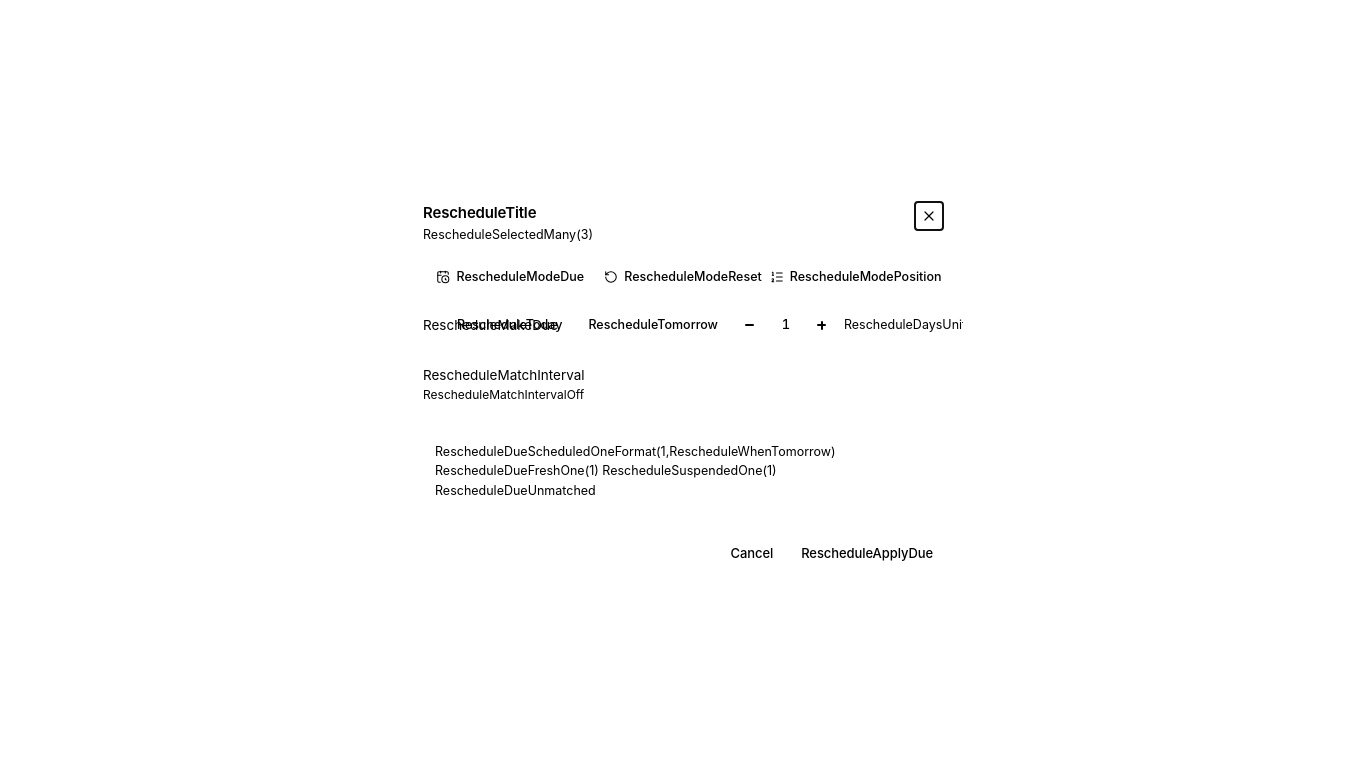
Scenario: RescheduleDialog › rewrites the sentence and the confirm label as the controls change
Click the button "RescheduleToday".
click(510, 325)  # box [447,309,572,341]
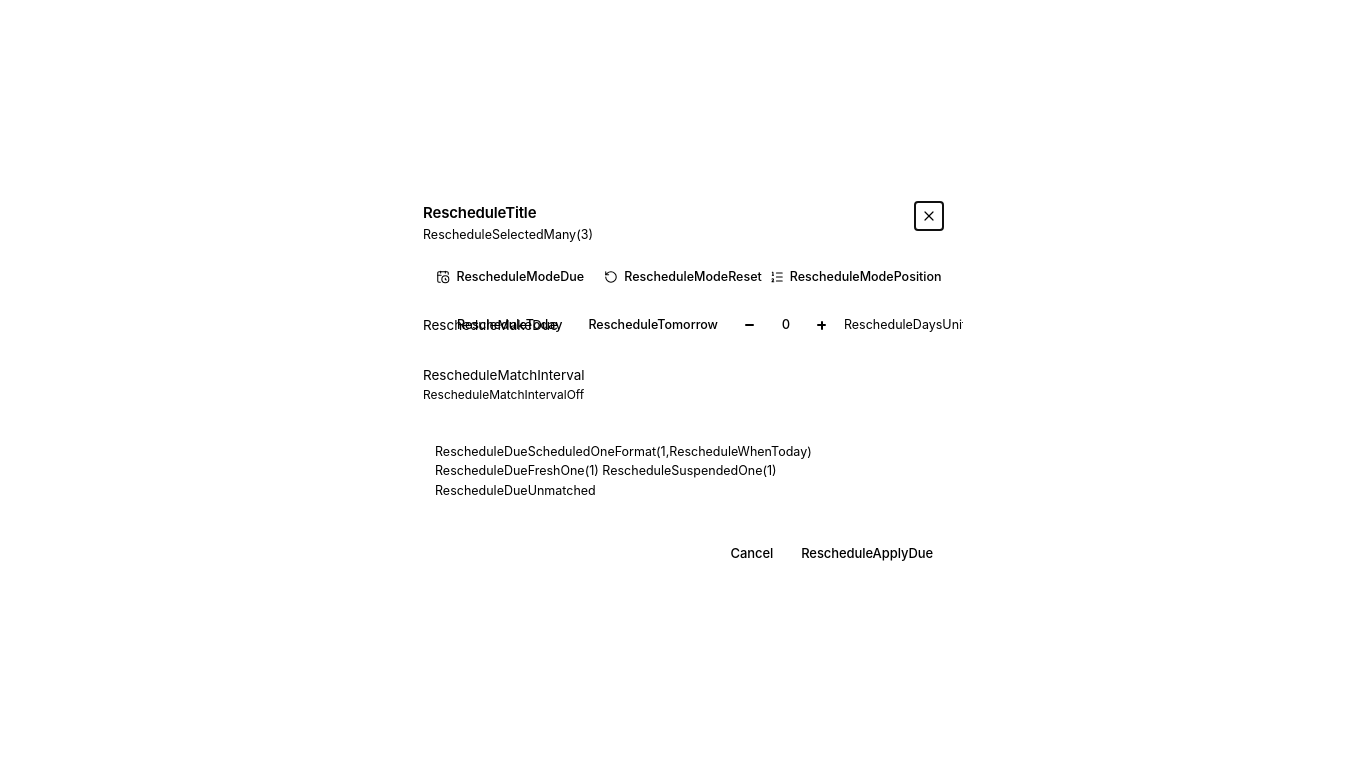
Result: the text "RescheduleDueScheduledOneFormat(1,RescheduleWhenToday)" is shown at [435,444,812,498]
Click the radio button labelled "RescheduleModeReset".
click(683, 277)  # box [598,263,768,291]
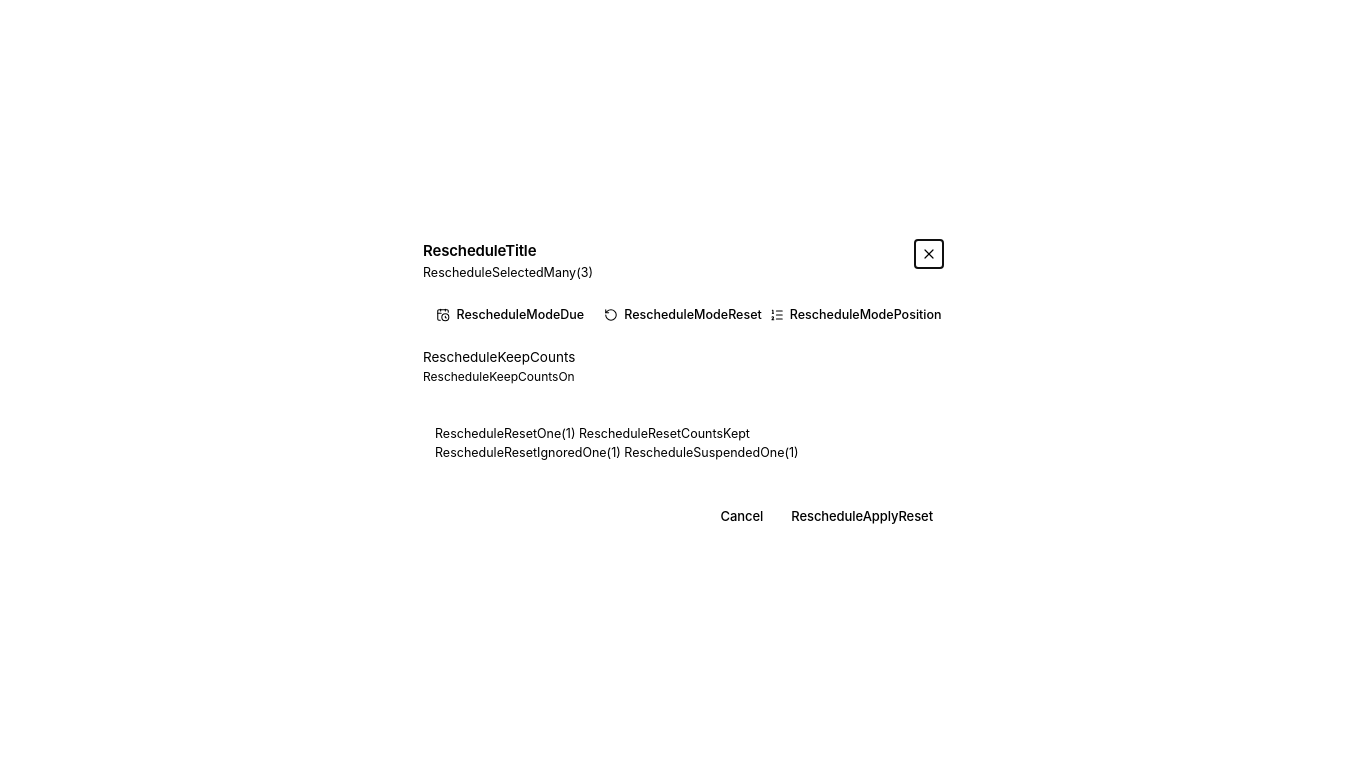
Expected: the button "RescheduleApplyReset" is shown, [781,500,943,532]
Result: the text "RescheduleResetOne(1) RescheduleResetCountsKept RescheduleResetIgnoredOne(1) RescheduleSuspendedOne(1)" is shown at [435,426,799,460]
Click the radio button labelled "RescheduleModePosition".
click(856, 315)  # box [770,301,941,329]
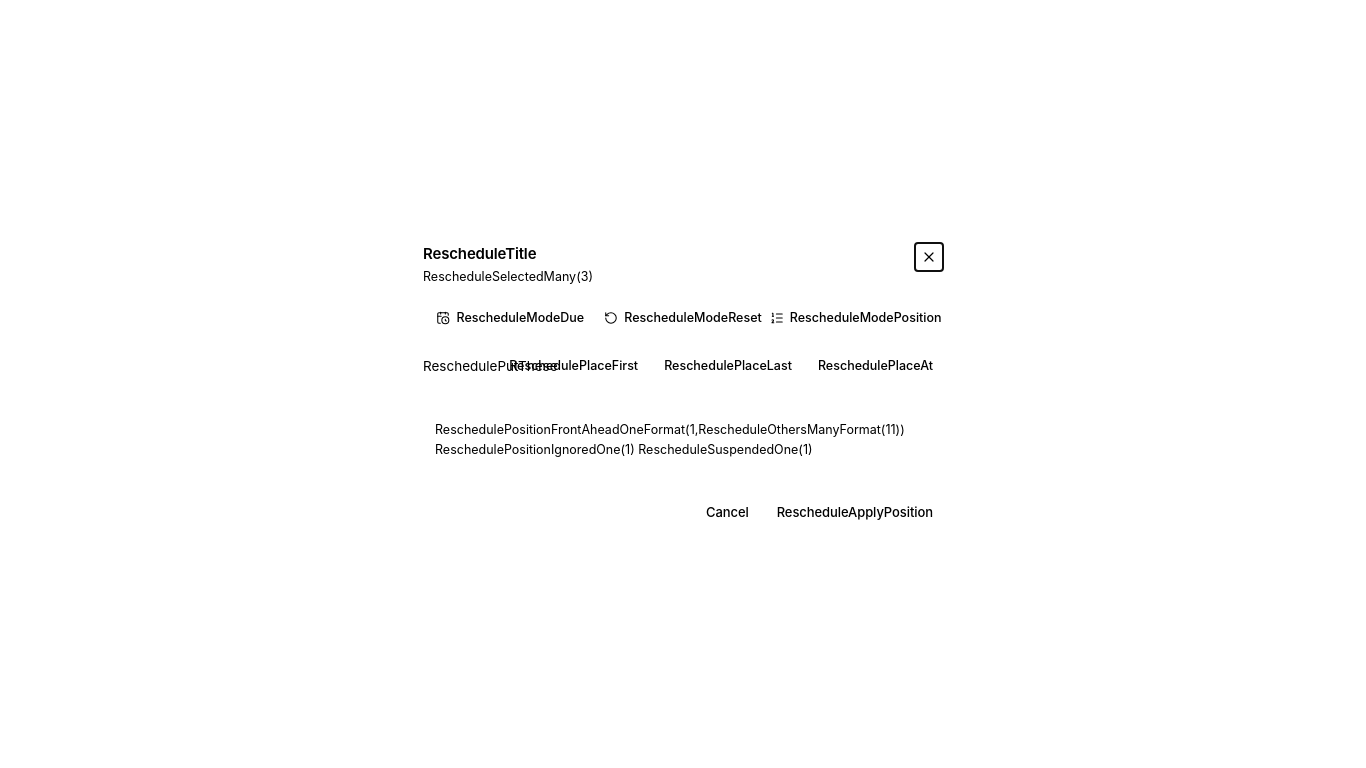
Expected: the button "RescheduleApplyPosition" is shown, [767,497,943,529]
Result: the text "ReschedulePositionFrontAheadOneFormat(1,RescheduleOthersManyFormat(11)) ReschedulePositionIgnoredOne(1) RescheduleSuspendedOne(1)" is shown at [435,422,905,457]
